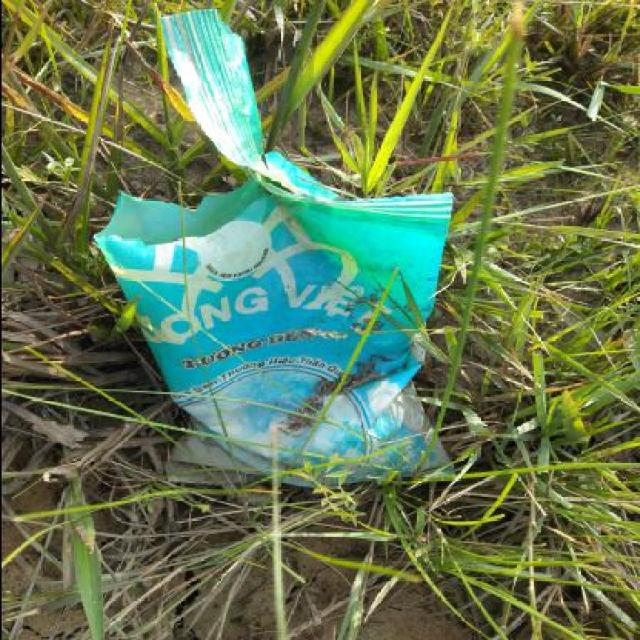plastic: (93, 11, 453, 487)
